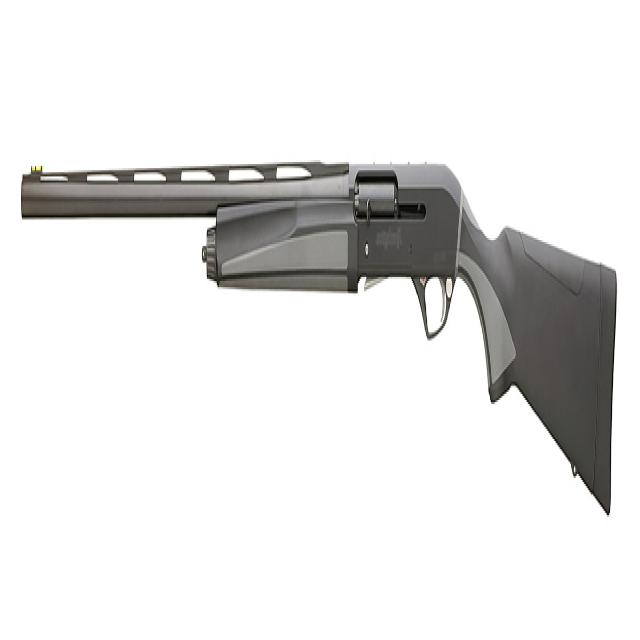ShotGun: (20, 158, 620, 513)
